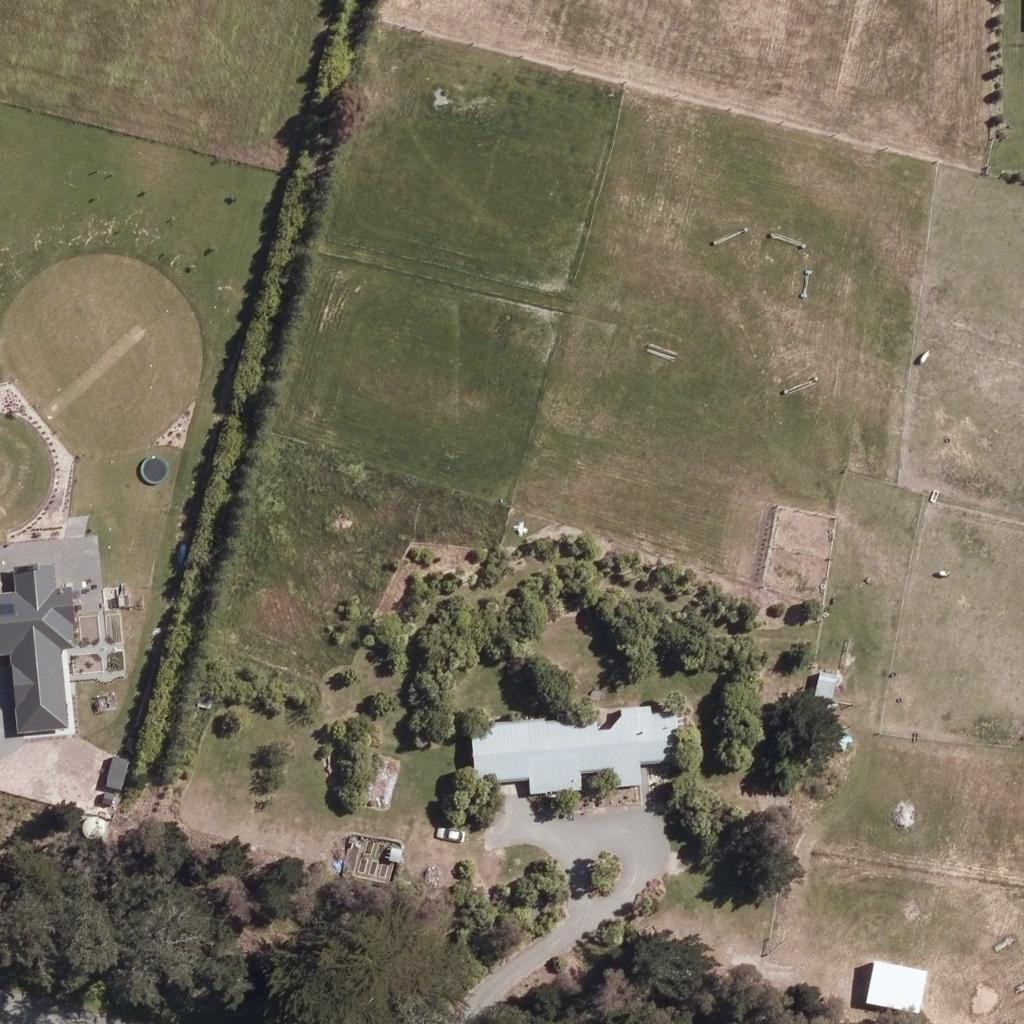car: (434, 815, 468, 849)
